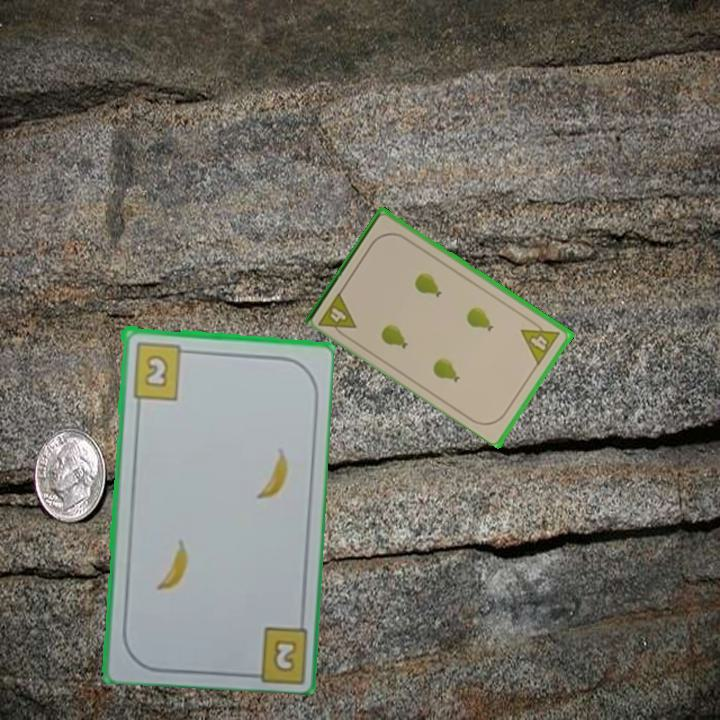2b: (129, 338, 193, 402), (269, 636, 299, 675)
4p: (315, 287, 360, 342), (518, 315, 563, 367)
